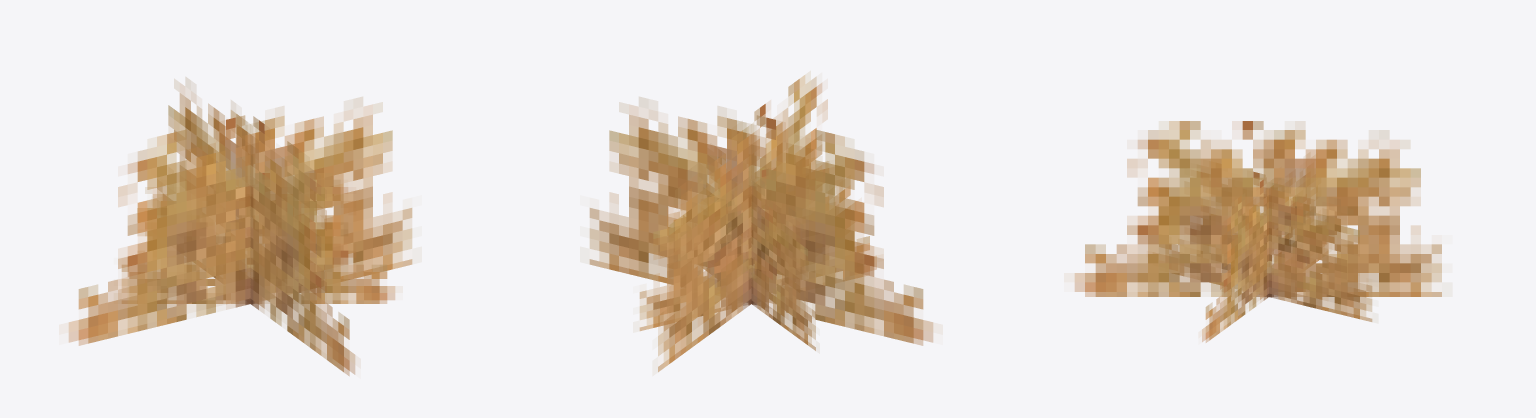
File: tree-shrub.glb
3 renders of one model, left to right at view 1: azimuth 30°, elevation 25°; view 2: azimuth 150°, elevation 25°; view 3: azimuth 270°, elevation 25°, orthographic. The views are drawn at different scales.
Visible parts, largest first — view 1: tree-shrub; view 2: tree-shrub; view 3: tree-shrub.
Boxes of the visible parts, <box> form: tree-shrub: <box>68,77,412,375</box>; tree-shrub: <box>589,71,933,371</box>; tree-shrub: <box>1074,121,1441,342</box>.
Size of the model in its own units: 0.78 by 0.3 by 0.78.
1 material, 1 textured.
